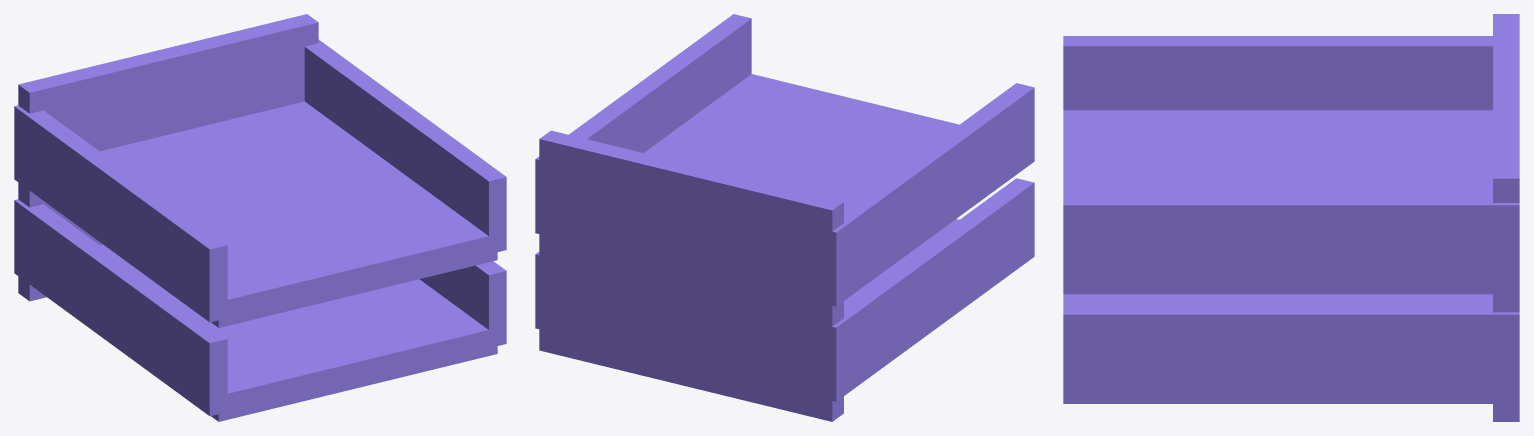
3 views of the same model, side by side, from view 1: azimuth 30°, elevation 25°; view 2: azimuth 150°, elevation 25°; view 3: azimuth 270°, elevation 25° (orthographic). The views are drawn at different scales.
Parts seen in each view (by area): view 1: Shelf.001, Back, Shelf, Side.002, Side, Side.003, Side.001; view 2: Back, Shelf.001, Side, Side.002, Side.003, Shelf, Side.001; view 3: Side.001, Side.003, Shelf.001, Side.002, Shelf, Back.
Part boxes in pixels (x1=…): Shelf.001: x1=100, y1=101, x2=497, y2=327; Back: x1=18, y1=14, x2=318, y2=301; Shelf: x1=100, y1=244, x2=497, y2=421; Side.002: x1=14, y1=105, x2=227, y2=322; Side: x1=14, y1=199, x2=227, y2=416; Side.003: x1=304, y1=39, x2=506, y2=253; Side.001: x1=419, y1=261, x2=506, y2=347; Back: x1=539, y1=130, x2=843, y2=421; Shelf.001: x1=544, y1=74, x2=958, y2=311; Side: x1=818, y1=178, x2=1034, y2=401; Side.002: x1=818, y1=83, x2=1034, y2=306; Side.003: x1=535, y1=14, x2=751, y2=233; Shelf: x1=544, y1=219, x2=959, y2=407; Side.001: x1=535, y1=252, x2=553, y2=330; Side.001: x1=1063, y1=304, x2=1519, y2=399; Side.003: x1=1063, y1=195, x2=1519, y2=290; Shelf.001: x1=1063, y1=110, x2=1492, y2=294; Side.002: x1=1063, y1=36, x2=1492, y2=110; Shelf: x1=1063, y1=294, x2=1492, y2=403; Back: x1=1493, y1=14, x2=1519, y2=421.
Bounding box in the file's own units: 29.8 × 20 × 34.
